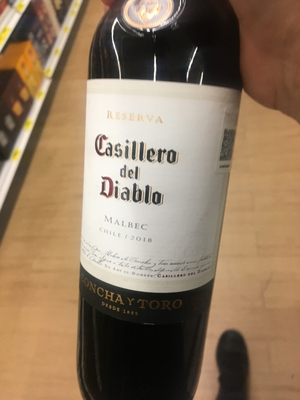casillero del diablo malbec: (73, 7, 251, 380)
